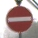No entry: (5, 5, 33, 33)
